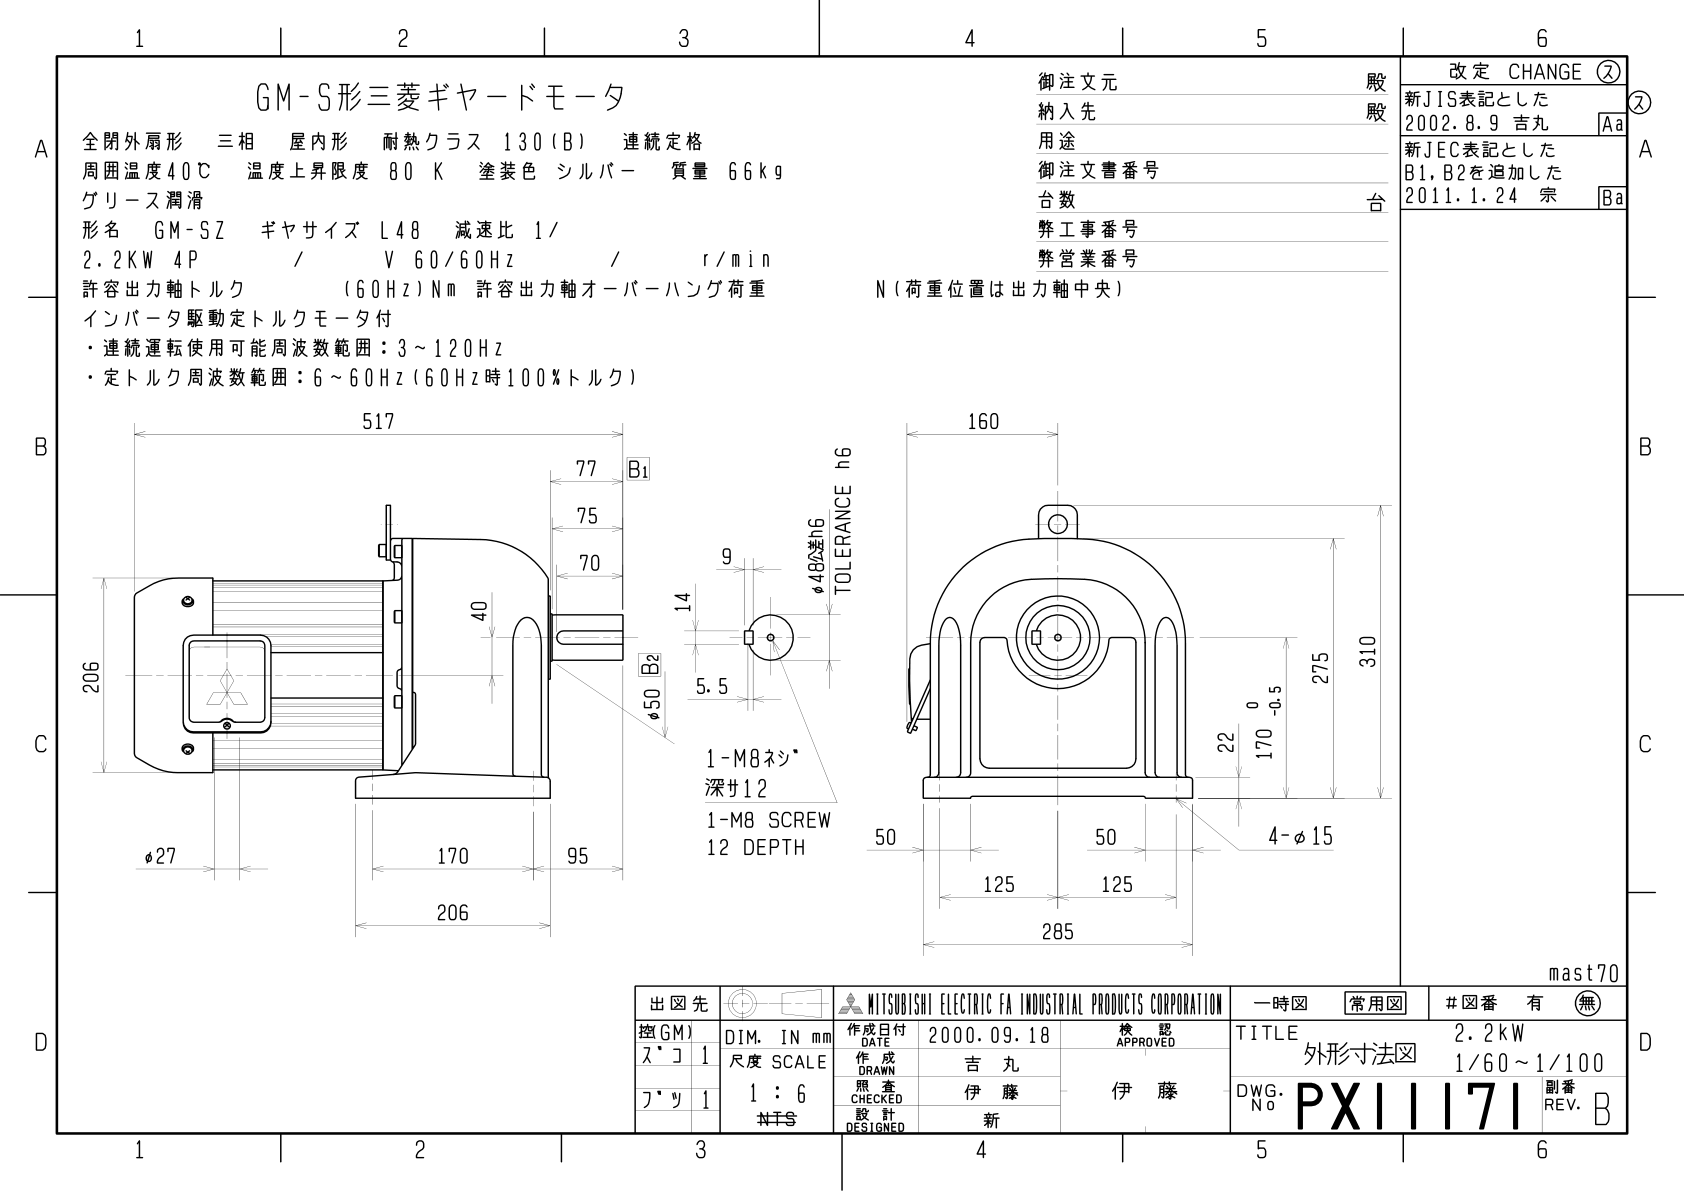GM_S_インバタ屋外＿三相_脚: (75, 396, 1397, 963)
